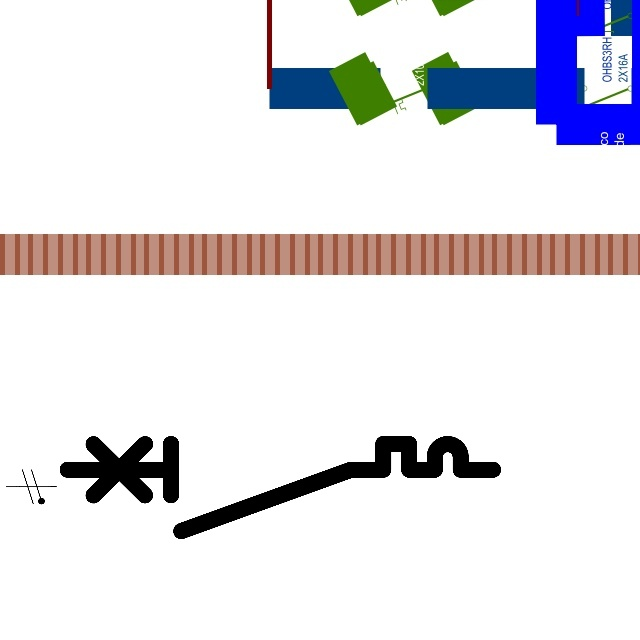interruptor_termomagnetico: (56, 433, 503, 542)
